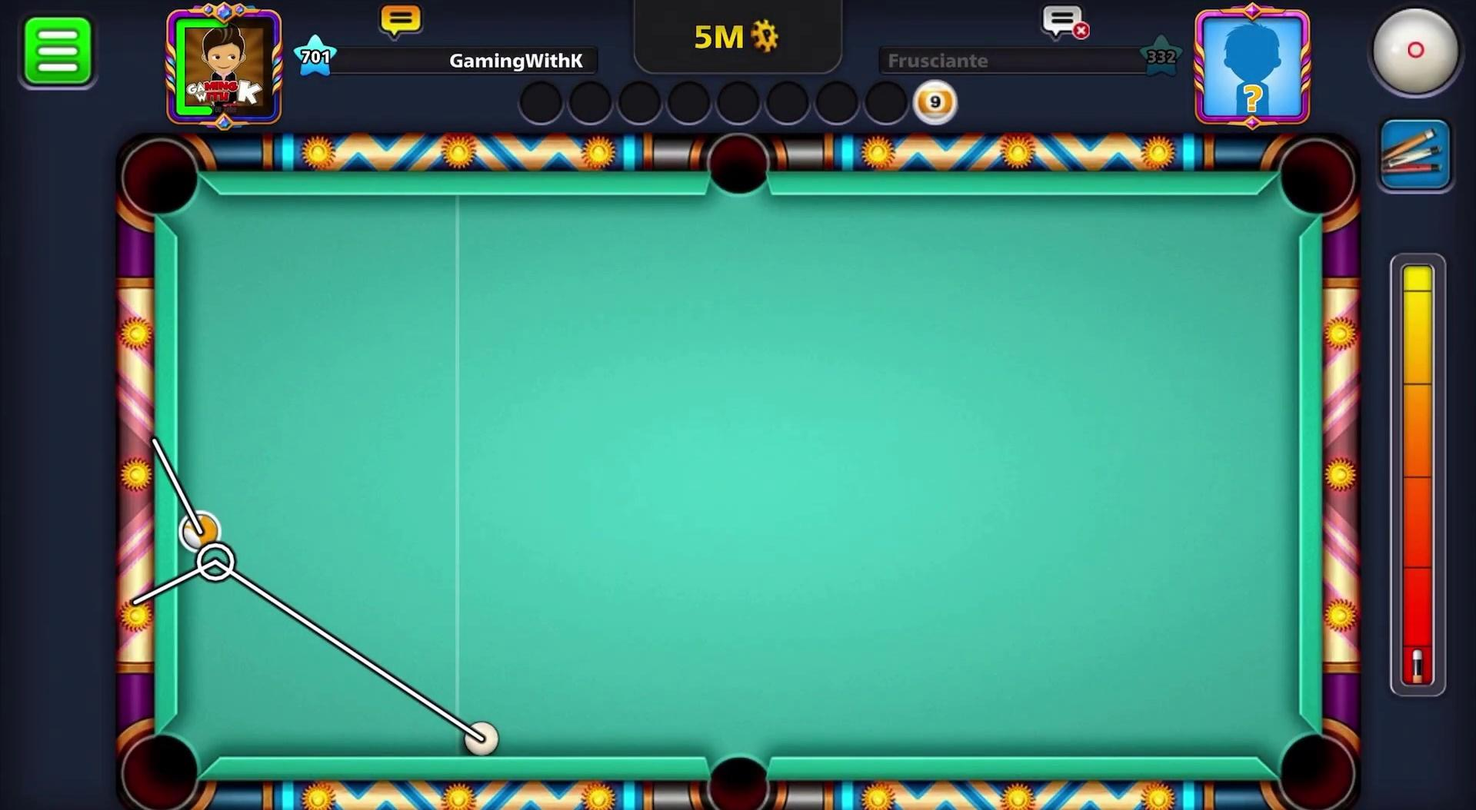Ball: (175, 510, 223, 556)
Force: (1388, 254, 1452, 695)
Guideline: (128, 434, 498, 755)
Hole: (108, 713, 220, 809), (108, 129, 213, 230), (1269, 129, 1365, 229), (1265, 719, 1364, 809), (686, 738, 786, 809), (698, 129, 778, 207)
Play_Area: (175, 194, 1298, 756)
Spin: (1345, 0, 1475, 112)
White: (452, 718, 505, 758)
